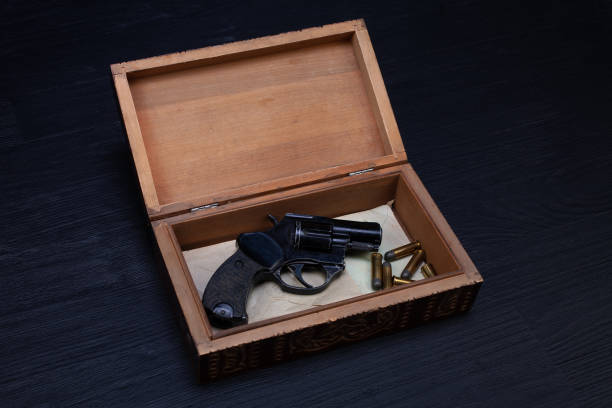gun: (199, 212, 382, 326)
